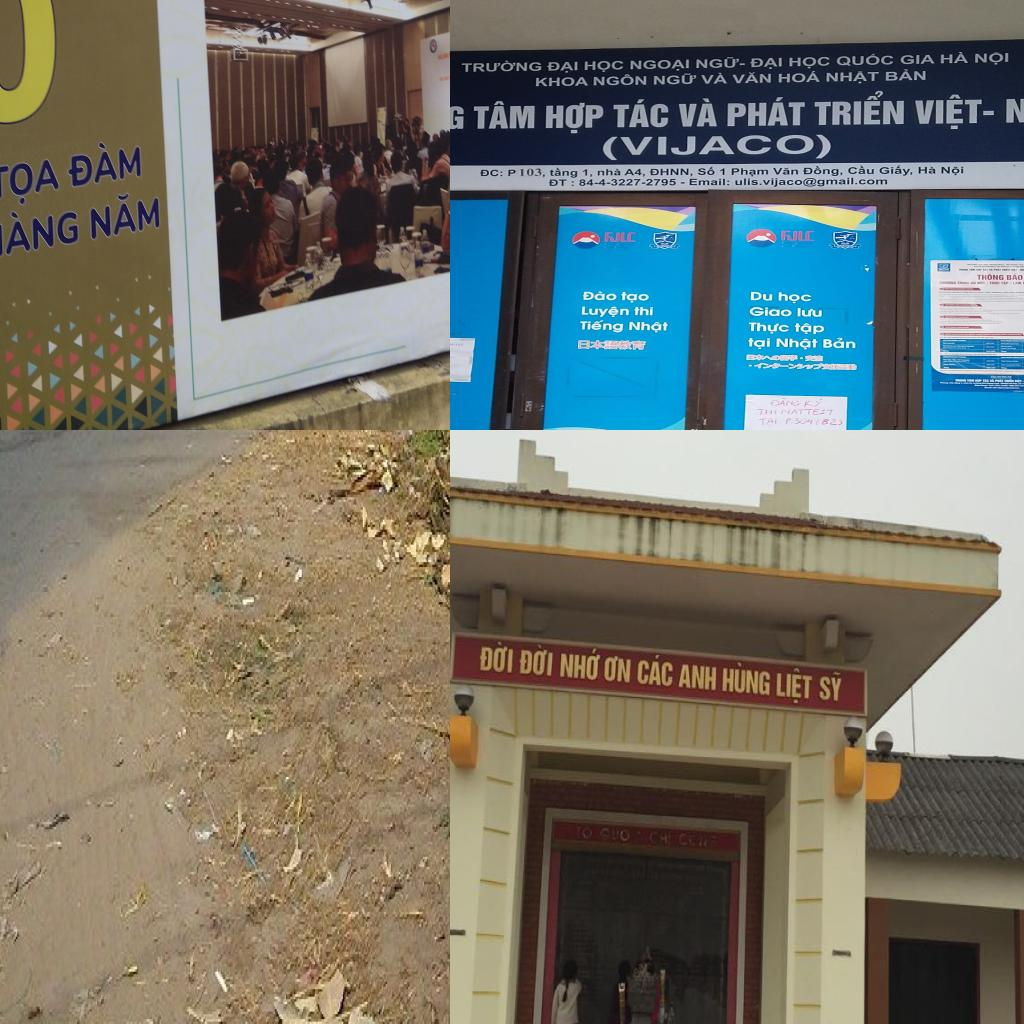text: (600, 131, 835, 162), (0, 199, 79, 263), (88, 184, 162, 244), (64, 137, 142, 190), (0, 157, 66, 214), (814, 88, 906, 126), (721, 96, 808, 129), (912, 94, 984, 131), (543, 102, 604, 134), (721, 660, 772, 698), (472, 101, 538, 130), (611, 96, 670, 128), (559, 644, 603, 681), (776, 664, 814, 706), (733, 177, 890, 187), (677, 96, 723, 129), (636, 652, 674, 688), (479, 640, 515, 676), (518, 642, 554, 678), (676, 663, 718, 692), (459, 60, 543, 74), (578, 178, 678, 188), (837, 52, 895, 68), (818, 669, 845, 703), (603, 654, 632, 685), (627, 58, 691, 72), (1003, 90, 1024, 132), (824, 70, 881, 85), (591, 73, 649, 87), (580, 318, 626, 334), (774, 336, 820, 352), (580, 304, 631, 318), (534, 76, 590, 88), (884, 68, 928, 83), (786, 56, 832, 70), (777, 70, 823, 84), (628, 319, 670, 334), (653, 72, 697, 86), (746, 321, 790, 335), (694, 56, 741, 69), (599, 826, 632, 844), (974, 50, 1011, 66), (777, 290, 815, 305), (793, 321, 827, 337), (749, 306, 794, 318), (732, 71, 773, 84), (900, 52, 938, 66), (802, 164, 844, 176), (649, 166, 694, 177), (583, 60, 624, 72), (937, 51, 972, 65), (750, 56, 784, 70), (780, 408, 837, 416), (546, 60, 580, 73), (878, 164, 914, 176), (603, 231, 639, 243), (781, 230, 817, 242), (582, 290, 618, 302), (822, 338, 858, 350), (731, 166, 770, 177), (621, 290, 651, 304), (648, 830, 669, 848), (701, 72, 730, 85), (519, 166, 548, 179), (548, 167, 579, 179), (746, 337, 773, 350), (846, 164, 875, 176), (688, 178, 731, 186), (769, 398, 803, 408), (748, 290, 774, 303), (796, 306, 824, 318), (814, 417, 844, 428), (771, 166, 800, 176), (548, 178, 577, 188), (941, 165, 965, 176), (634, 305, 656, 317), (479, 168, 504, 178), (916, 164, 938, 175), (622, 167, 646, 177), (976, 273, 1006, 281), (596, 167, 622, 176), (757, 417, 780, 427), (802, 398, 824, 408), (696, 166, 716, 176), (794, 417, 816, 426), (678, 832, 690, 847), (756, 408, 778, 416), (583, 827, 594, 841), (1006, 273, 1024, 281), (580, 167, 594, 177), (505, 168, 517, 178), (783, 416, 795, 426), (982, 109, 996, 117), (717, 167, 727, 176), (938, 281, 957, 285), (956, 280, 970, 285), (989, 282, 1001, 286), (1012, 281, 1024, 285), (976, 281, 986, 285), (1001, 282, 1009, 286), (739, 62, 746, 66), (970, 281, 977, 285), (680, 180, 686, 184), (746, 364, 753, 367), (799, 357, 804, 360), (1022, 280, 1024, 285), (986, 283, 990, 284), (1010, 283, 1012, 284)
